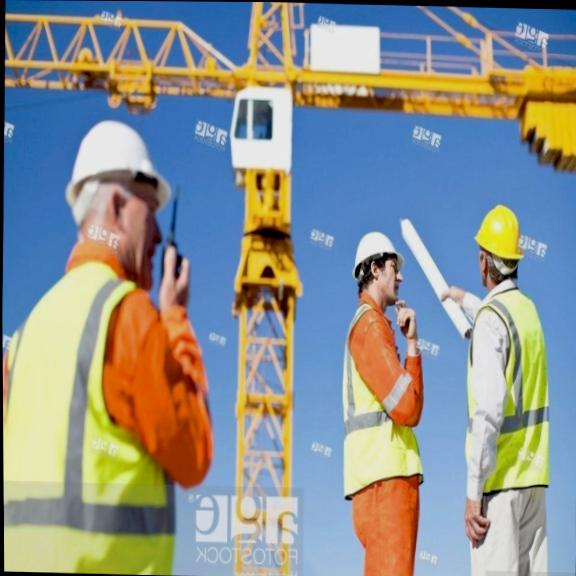safety_vest: (2, 263, 166, 575), (466, 284, 552, 501), (340, 306, 425, 495)
